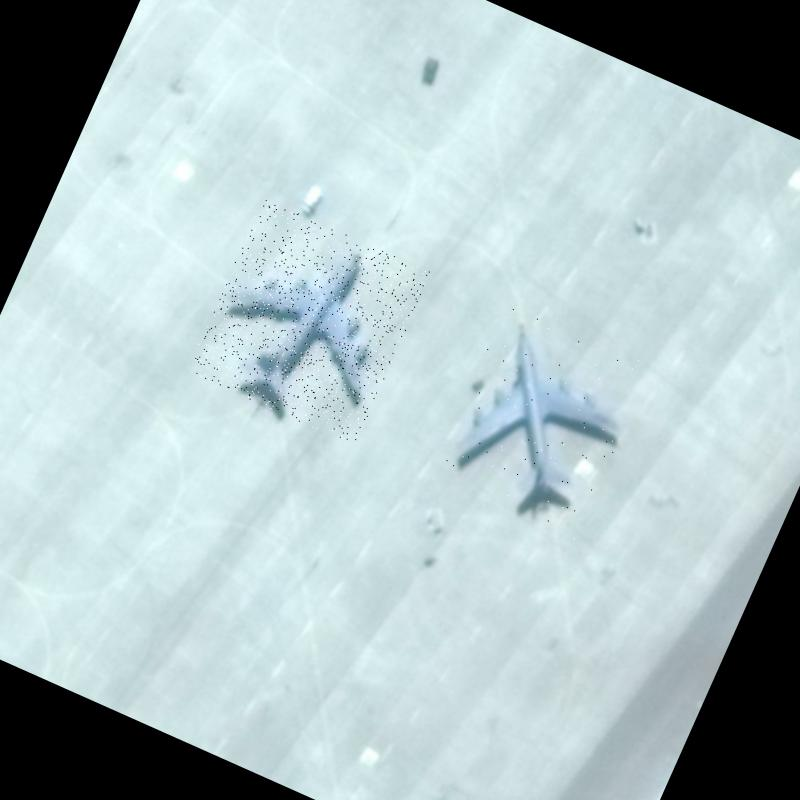A14: (186, 198, 431, 446), (429, 301, 656, 546)
